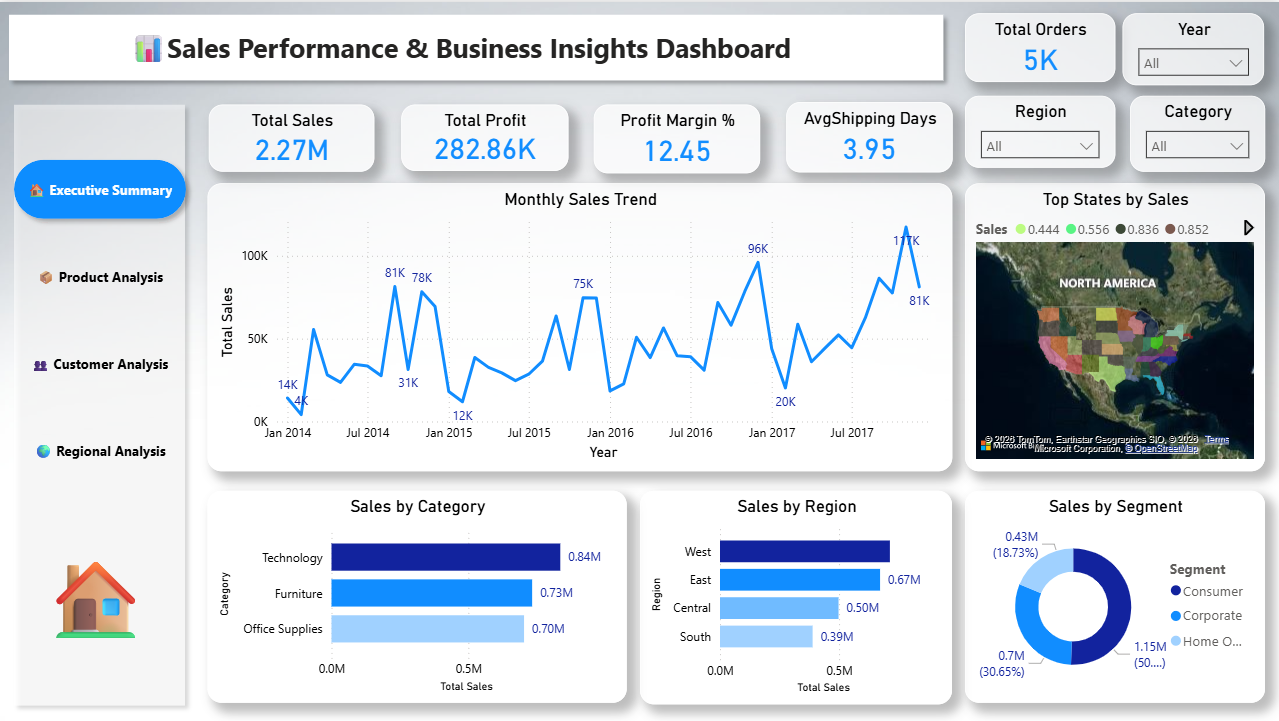

The dashboard page shown, as its layout file describes it:
{"tool":"powerbi","page":{"name":"🏠 Executive Summary","canvas":[1280,720],"ordinal":0},"visuals":[{"type":"shape","box":[0,3.7,952.2,83.4],"z":500},{"type":"shape","box":[4.9,93.3,189,618.4],"z":1000},{"type":"pageNavigator","box":[4.9,148.5,190.2,341.1],"z":2000},{"type":"card","title":"Total Sales","fields":{"Values":["Sum(sales_db sales_cleaned_final.Sales)"]},"box":[208.6,103.1,165.6,67.5],"z":3000},{"type":"card","title":"Total Profit","fields":{"Values":["sales_cleaned_final.Total Profit"]},"box":[401.2,103.1,166.9,66.3],"z":4000},{"type":"card","title":"Total Orders","fields":{"Values":["sales_cleaned_final.Total Orders"]},"box":[964.9,10.8,150,68.9],"z":5000},{"type":"card","title":"Profit Margin %","fields":{"Values":["sales_cleaned_final.Profit Margin %"]},"box":[593.2,102.7,166.2,68.9],"z":6000},{"type":"card","title":"AvgShipping Days","fields":{"Values":["sales_cleaned_final.Avg Shipping Days"]},"box":[786.5,100,166.2,70.3],"z":7000},{"type":"lineChart","title":"Monthly Sales Trend ","fields":{"Y":["sales_cleaned_final.Total Sales"],"Category":["sales_cleaned_final.Order Date.Variation.Date Hierarchy.Year","sales_cleaned_final.Order Date.Variation.Date Hierarchy.Month"]},"box":[208.1,181.1,744.6,287.8],"z":8000},{"type":"clusteredBarChart","title":" Sales by Category","fields":{"Category":["sales_cleaned_final.Category"],"Y":["sales_cleaned_final.Total Sales"]},"box":[208.1,489.2,418.9,212.2],"z":9000},{"type":"clusteredBarChart","title":"Sales by Region","fields":{"Y":["sales_cleaned_final.Total Sales"],"Category":["sales_cleaned_final.Region"]},"box":[640.5,489.2,312.2,213.5],"z":10000},{"type":"donutChart","title":"Sales by Segment","fields":{"Y":["sales_cleaned_final.Total Sales"],"Category":["sales_cleaned_final.Segment"]},"box":[964.9,489.2,300,212.2],"z":11000},{"type":"filledMap","title":"Top States by Sales","fields":{"Category":["sales_cleaned_final.State"],"Series":["sales_cleaned_final.Sales"]},"box":[964.9,181.1,300,287.8],"z":12000},{"type":"slicer","title":"Region","fields":{"Values":["sales_cleaned_final.Region"]},"box":[964.9,93.2,150,71.6],"z":13000},{"type":"slicer","title":"Year","fields":{"Values":["sales_cleaned_final.Year"]},"box":[1123,10.8,141.9,71.6],"z":14000},{"type":"slicer","title":"Category","fields":{"Values":["sales_cleaned_final.Category"]},"box":[1129.7,93.2,135.1,75.7],"z":15000},{"type":"textbox","title":"🏠","box":[26,538.2,138.5,138.5],"z":16000},{"type":"textbox","box":[14.7,22.1,905.5,45.4],"z":17000}]}

Visuals, with their boxes in screenshot pixels (x1, y1, x2, y2), scaled from the page's 1280x720 canvas onto the 1279x721 screenshot:
shape: [0, 4, 951, 87]
shape: [5, 93, 194, 713]
pageNavigator: [5, 149, 195, 490]
"Total Sales" card: [208, 103, 374, 171]
"Total Profit" card: [401, 103, 568, 170]
"Total Orders" card: [964, 11, 1114, 80]
"Profit Margin %" card: [593, 103, 759, 172]
"AvgShipping Days" card: [786, 100, 952, 171]
"Monthly Sales Trend " lineChart: [208, 181, 952, 470]
" Sales by Category" clusteredBarChart: [208, 490, 627, 702]
"Sales by Region" clusteredBarChart: [640, 490, 952, 704]
"Sales by Segment" donutChart: [964, 490, 1264, 702]
"Top States by Sales" filledMap: [964, 181, 1264, 470]
"Region" slicer: [964, 93, 1114, 165]
"Year" slicer: [1122, 11, 1264, 83]
"Category" slicer: [1129, 93, 1264, 169]
"🏠" textbox: [26, 539, 164, 678]
textbox: [15, 22, 919, 68]
